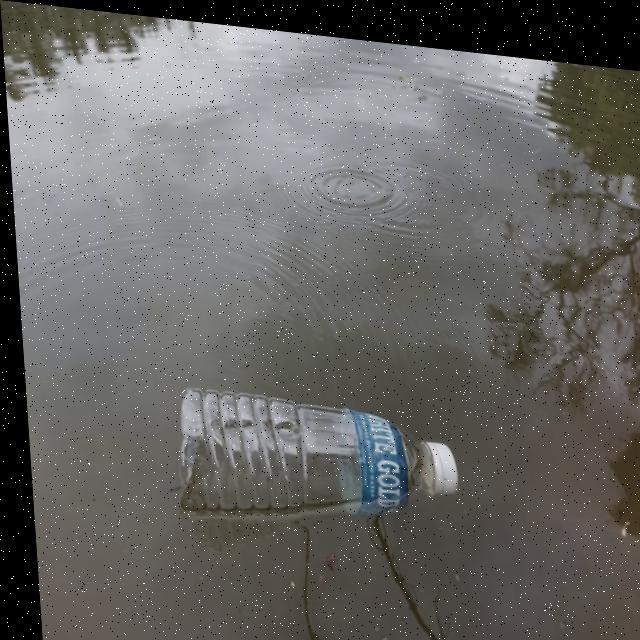waterbottle: (157, 374, 464, 533)
